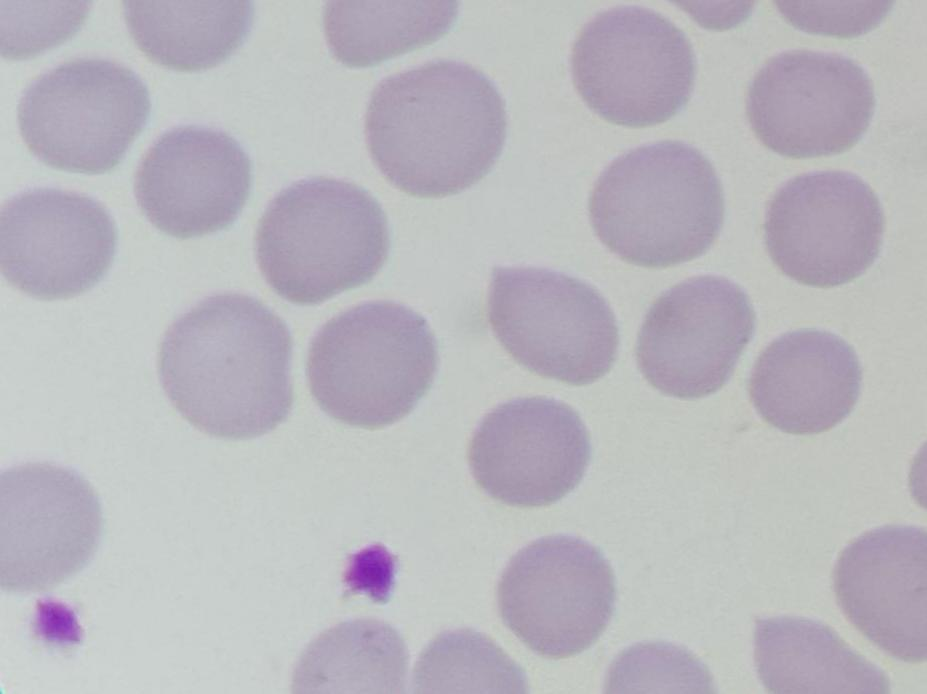Uninfected: (157, 296, 297, 441), (365, 62, 504, 200), (310, 297, 440, 437), (590, 137, 726, 266), (257, 176, 390, 304), (488, 257, 617, 385), (493, 532, 616, 657), (633, 276, 753, 404), (747, 46, 876, 164), (15, 57, 142, 175), (572, 6, 692, 129), (762, 169, 881, 290), (0, 461, 106, 595), (0, 191, 120, 305), (134, 124, 251, 238), (470, 396, 590, 506), (832, 524, 927, 658), (747, 331, 862, 439), (748, 609, 886, 694), (293, 616, 413, 694), (123, 0, 251, 72)
